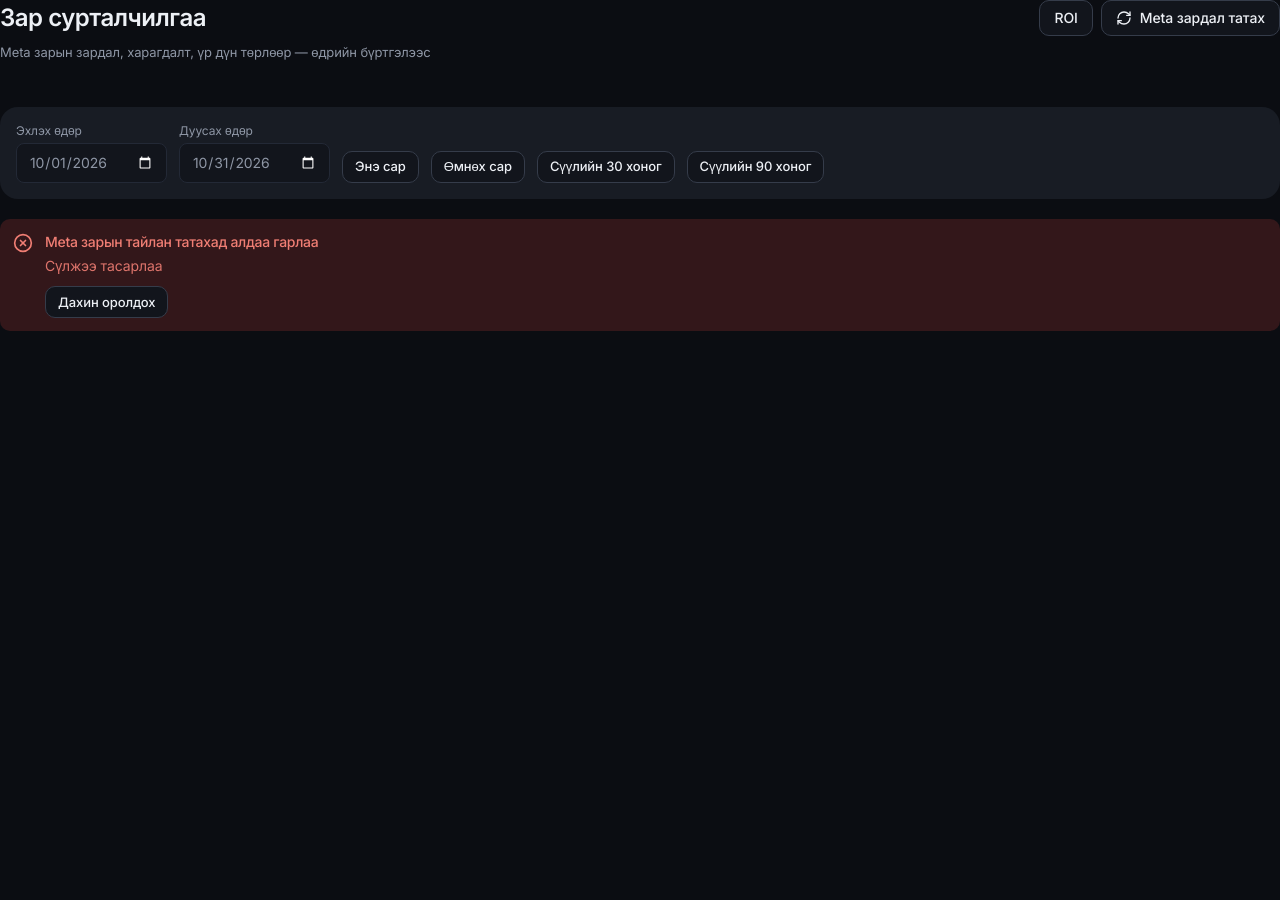
Test: ads › shows a failed read as an error with retry, not as the empty state
Expected: the text "Meta зарын тайлан татахад алдаа гарлаа" is shown, [45,233,318,250]
Expected: the text "Сүлжээ тасарлаа" is shown, [45,257,162,274]
Click the button "Дахин оролдох" at (107, 302), box [45,286,168,318]
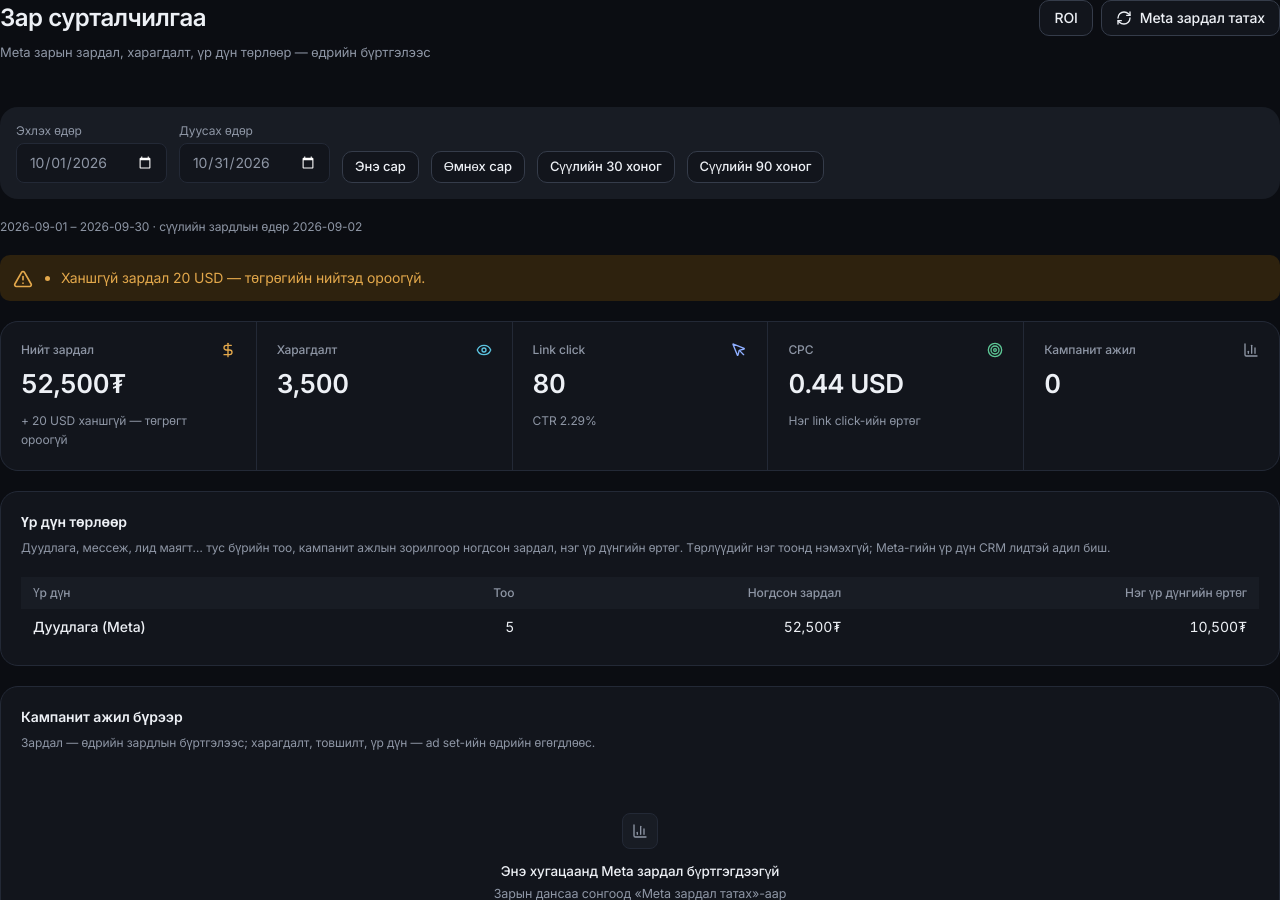
Expected: the heading "Энэ хугацаанд Meta зардал бүртгэгдээгүй" is shown, [501,860,779,881]
